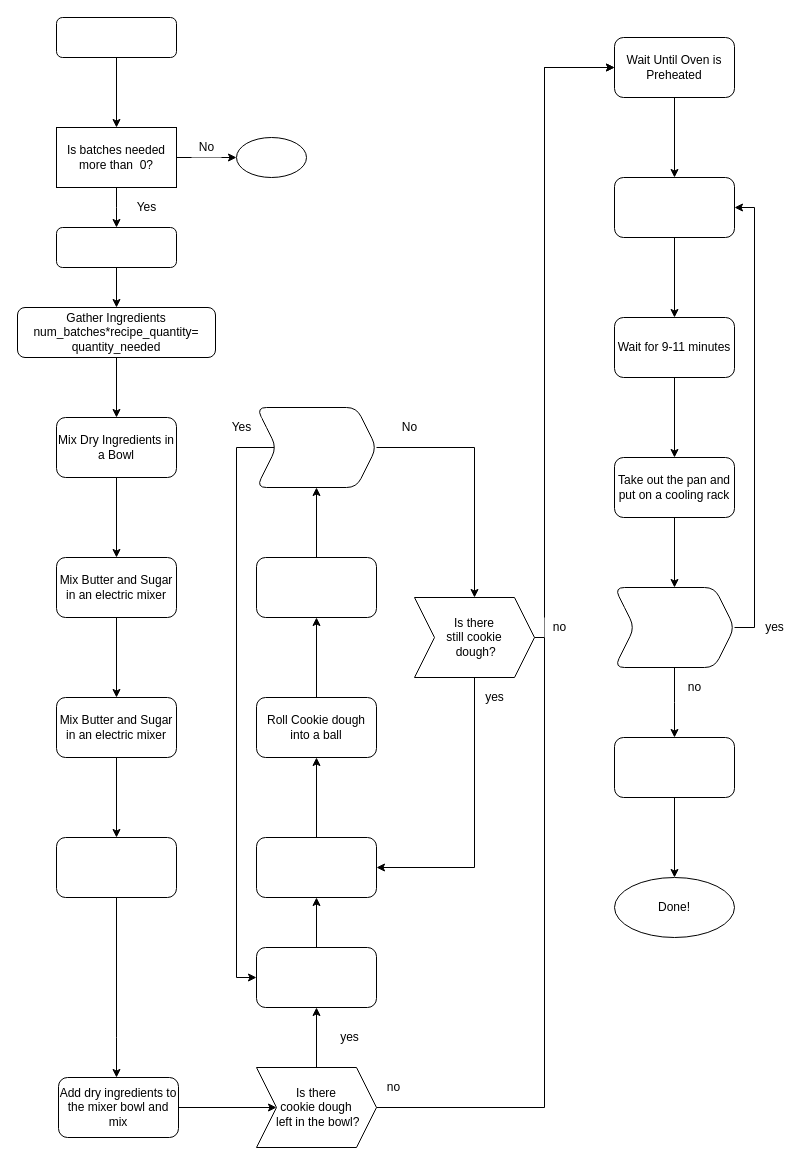
Image size: 807x1165. Some labels were removed from this diagram. The box of each missing label's shape, as (x1, y1, x2, y2) in pixels:
Add egg, egg yolk, and vanilla to the mixer and mix: (56, 836, 176, 898)
Done: (236, 136, 306, 178)
Gather a baking sheet: (256, 946, 376, 1008)
Input Batches Needed: (56, 16, 176, 58)
Is baking sheet full?: (256, 406, 376, 488)
Is there still uncooked cookies?: (614, 586, 734, 668)
Place baking sheet with dough in the Oven: (614, 176, 734, 238)
Place on baking sheet: (256, 556, 376, 618)
Preheat Oven to 350: (56, 226, 176, 268)
Scoop 1 1/2 Tbsp of cookie dough: (256, 836, 376, 898)
Wait for 5 minutes for the last batch to cool: (614, 736, 734, 798)
